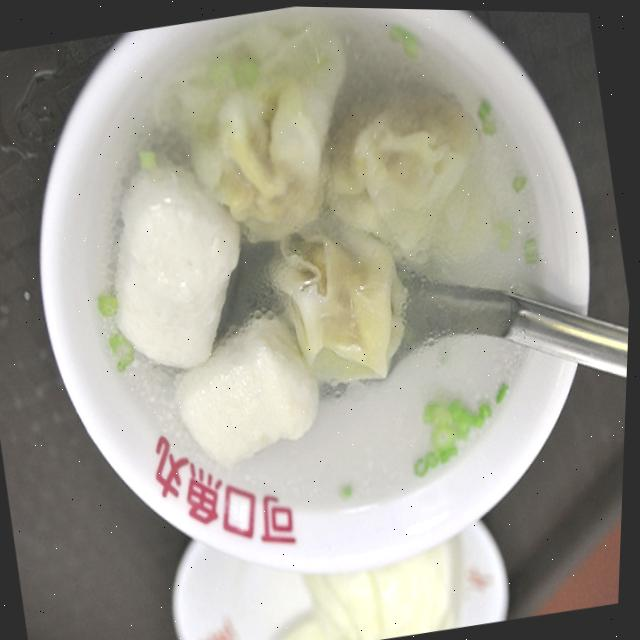熟制海鲜: (51, 1, 583, 567)
